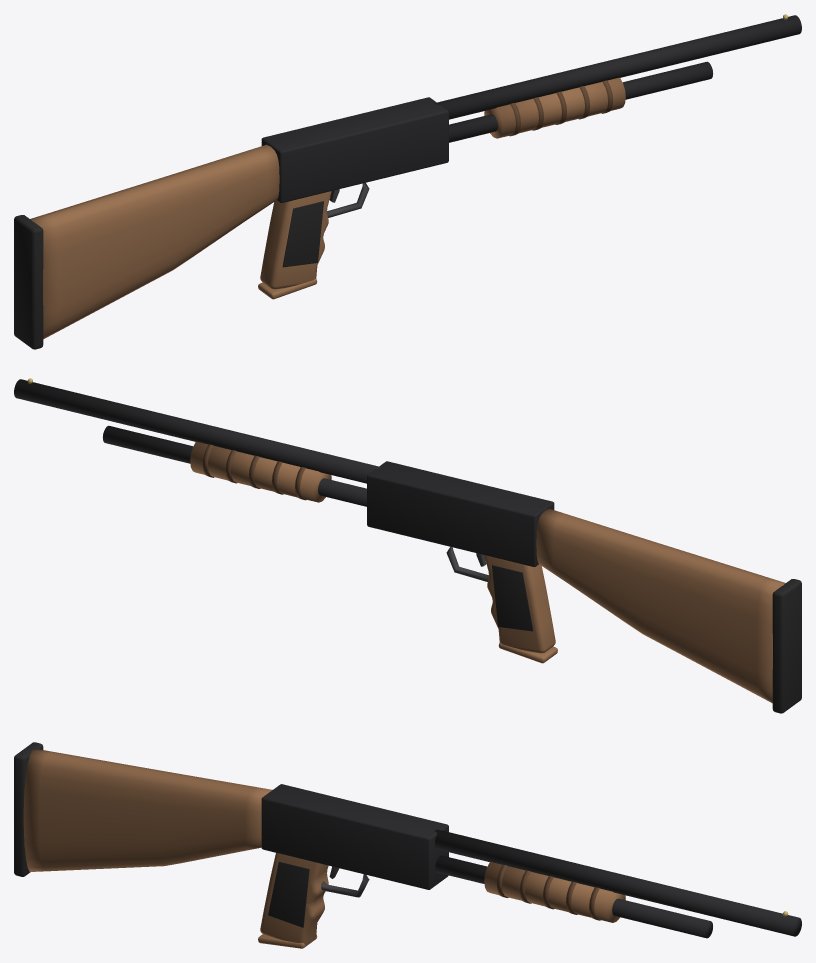
The model's file is SM_Pump.glb.
3 views of the same model, one above another, from view 1: azimuth 30°, elevation 25°; view 2: azimuth 150°, elevation 25°; view 3: azimuth 330°, elevation 25° (orthographic).
Visible parts, largest first — view 1: SM_Pump; view 2: SM_Pump; view 3: SM_Pump.
Boxes of the visible parts, x1,y1,x2,y2 form: SM_Pump: (14, 14, 801, 349); SM_Pump: (14, 378, 801, 713); SM_Pump: (14, 742, 801, 948).
Size of the model in its own units: 1.01 by 0.1908 by 0.046.
